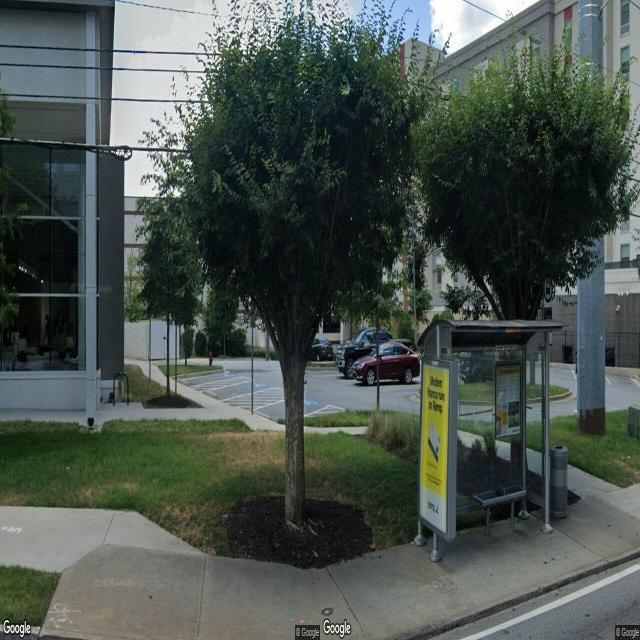seating: (472, 486, 526, 536)
shelter: (416, 314, 564, 552)
trash_can: (550, 444, 568, 519)
